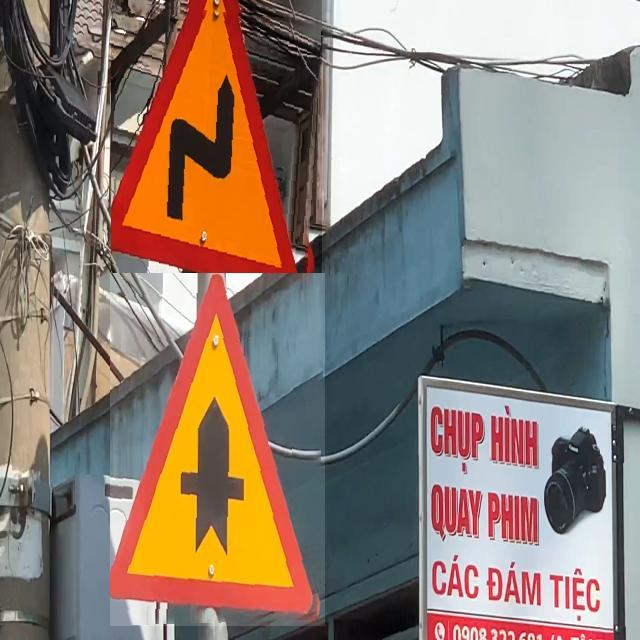W-202b: (111, 0, 322, 287)
W-207a: (110, 273, 325, 626)
